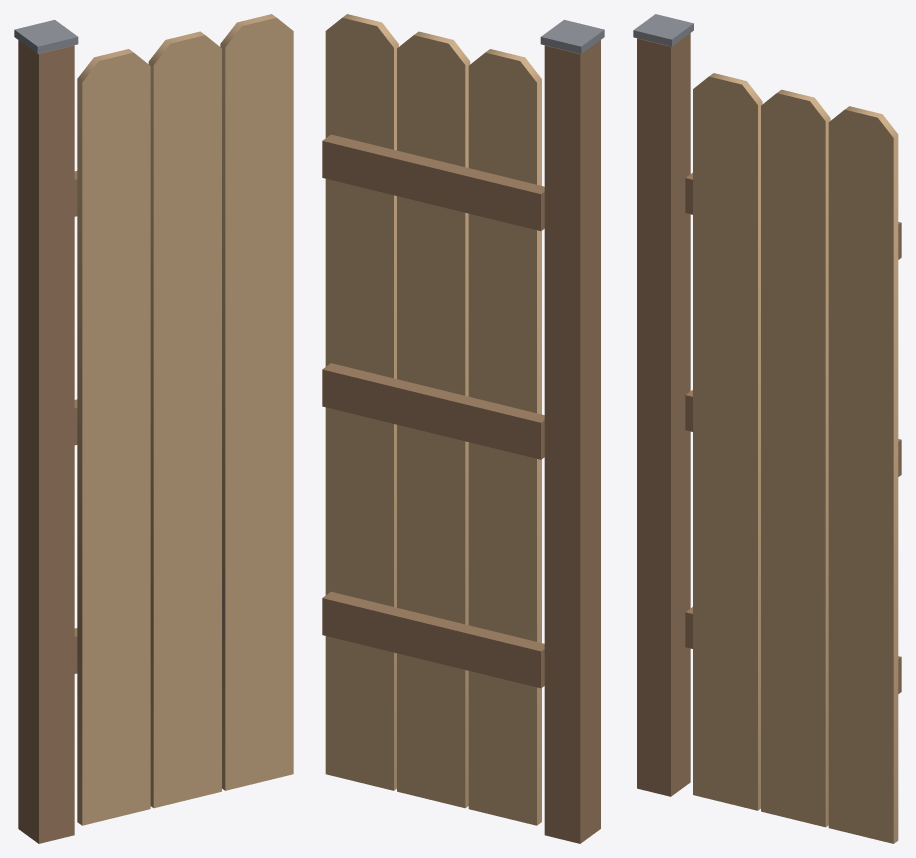
File: WoodFence_End.fbx
3 views of the same model, side by side, from view 1: azimuth 30°, elevation 25°; view 2: azimuth 150°, elevation 25°; view 3: azimuth 330°, elevation 25° (orthographic). The views are drawn at different scales.
Visible parts, largest first — view 1: LOD0; view 2: LOD0; view 3: LOD0.
Part boxes in pixels (box(x1,y1,x2,y2)): LOD0: box(14, 14, 293, 843); LOD0: box(322, 14, 604, 843); LOD0: box(633, 14, 901, 843).
Size of what is drawn, in the model's own units: 66.7 by 192 by 10.4.
